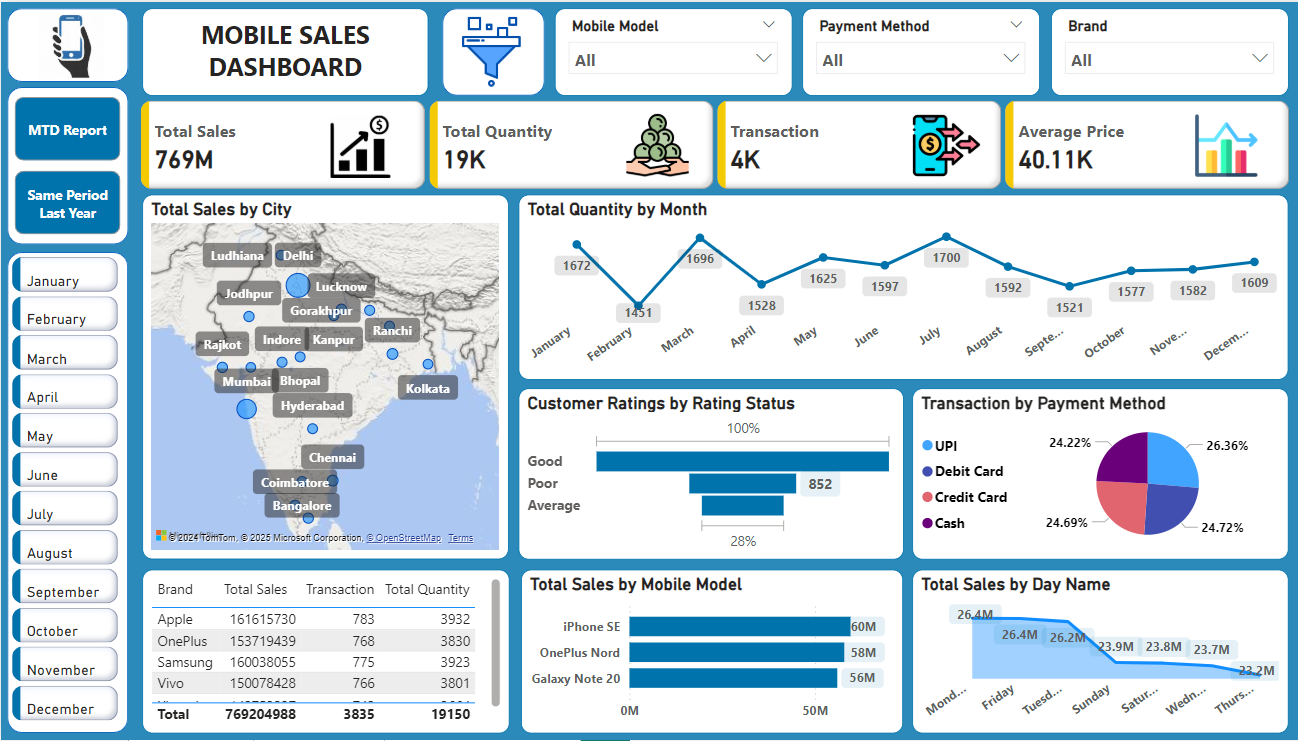

What the dashboard file says about the page in this screenshot:
{"tool":"powerbi","page":{"name":"Dashboard","canvas":[1280,720],"ordinal":0},"visuals":[{"type":"shape","box":[6.1,82.9,118.3,153.7],"z":0},{"type":"shape","box":[6.4,243.6,117.9,469.2],"z":1000},{"type":"shape","box":[6.1,6.1,118.3,72],"z":2000},{"type":"image","box":[0,6.1,137.8,74.4],"z":3000},{"type":"advancedSlicerVisual","fields":{"Values":["Query1.Date.Variation.Date Hierarchy.Month"]},"box":[6.1,243.9,113.4,463.4],"z":4000},{"type":"cardVisual","fields":{"Data":["Sales_data.Total Sales","Sales_data.Total Quantity","Sales_data.Transaction","Sales_data.Average Price"]},"box":[131.7,91.5,1132.9,96.3],"z":5000},{"type":"image","box":[1140.2,104.9,109.8,70.7],"z":6000},{"type":"image","box":[581.7,102.4,117.1,74.4],"z":7000},{"type":"image","box":[876.8,102.4,91.5,75.6],"z":9000},{"type":"image","box":[295.1,106.1,111,70.7],"z":10000},{"type":"slicer","fields":{"Values":["Sales_data.Mobile Model"]},"box":[540.2,6.1,231.7,85.4],"z":11000},{"type":"slicer","fields":{"Values":["Sales_data.Payment Method"]},"box":[781.7,6.1,231.7,85.4],"z":12000},{"type":"slicer","fields":{"Values":["Sales_data.Brand"]},"box":[1024.4,6.1,231.7,85.4],"z":13000},{"type":"shape","box":[430.5,6.1,100,85.4],"z":14000},{"type":"image","box":[425.6,8.5,104.9,80.5],"z":15000},{"type":"textbox","box":[137.8,6.1,279.3,85.4],"z":16000},{"type":"map","fields":{"Category":["Sales_data.City"],"Size":["Sales_data.Total Sales"]},"box":[137.8,187.8,357.3,356.1],"z":17000},{"type":"lineChart","fields":{"Category":["Query1.Date.Variation.Date Hierarchy.Month"],"Y":["Sales_data.Total Quantity"]},"box":[504.9,187.8,751.2,180.5],"z":17001},{"type":"funnel","title":"Customer Ratings by Rating Status","fields":{"Y":["CountNonNull(Sales_data.Customer Ratings)"],"Category":["Sales_data.Rating Status"]},"box":[504.9,376.8,375.6,167.1],"z":17002},{"type":"pieChart","fields":{"Y":["Sales_data.Transaction"],"Category":["Sales_data.Payment Method"]},"box":[889,376.8,367.1,167.1],"z":17003},{"type":"clusteredBarChart","fields":{"Y":["Sales_data.Total Sales"],"Category":["Sales_data.Mobile Model"]},"box":[507.3,553.7,373.2,159.8],"z":17004},{"type":"areaChart","fields":{"Y":["Sales_data.Total Sales"],"Category":["Query1.Day Name"]},"box":[889,553.7,367.1,159.8],"z":17005},{"type":"tableEx","fields":{"Values":["Sales_data.Brand","Sales_data.Total Sales","Sales_data.Transaction","Sales_data.Total Quantity"]},"box":[137.8,553.7,358.5,159.8],"z":17006},{"type":"pageNavigator","box":[13.4,92.7,103.7,135.4],"z":17007}]}

Visuals, with their boxes in screenshot pixels (x1, y1, x2, y2), scaled from the page's 1280x720 canvas onto the 1298x741 screenshot:
shape: (6, 85, 126, 244)
shape: (6, 251, 126, 734)
shape: (6, 6, 126, 80)
image: (0, 6, 140, 83)
advancedSlicerVisual - Query1.Date.Variation.Date Hierarchy.Month: (6, 251, 121, 728)
cardVisual - Sales_data.Total Sales x Sales_data.Total Quantity: (134, 94, 1282, 193)
image: (1156, 108, 1268, 181)
image: (590, 105, 709, 182)
image: (889, 105, 982, 183)
image: (299, 109, 412, 182)
slicer - Sales_data.Mobile Model: (548, 6, 783, 94)
slicer - Sales_data.Payment Method: (793, 6, 1028, 94)
slicer - Sales_data.Brand: (1039, 6, 1274, 94)
shape: (437, 6, 538, 94)
image: (432, 9, 538, 92)
textbox: (140, 6, 423, 94)
map - Sales_data.City x Sales_data.Total Sales: (140, 193, 502, 560)
lineChart - Query1.Date.Variation.Date Hierarchy.Month x Sales_data.Total Quantity: (512, 193, 1274, 379)
"Customer Ratings by Rating Status" funnel: (512, 388, 893, 560)
pieChart - Sales_data.Transaction x Sales_data.Payment Method: (902, 388, 1274, 560)
clusteredBarChart - Sales_data.Total Sales x Sales_data.Mobile Model: (514, 570, 893, 734)
areaChart - Sales_data.Total Sales x Query1.Day Name: (902, 570, 1274, 734)
tableEx - Sales_data.Brand x Sales_data.Total Sales: (140, 570, 503, 734)
pageNavigator: (14, 95, 119, 235)
